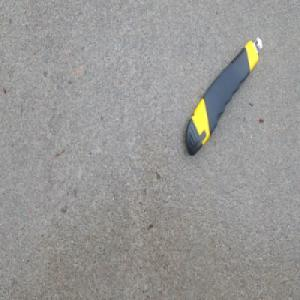Cutter: (182, 35, 262, 157)
